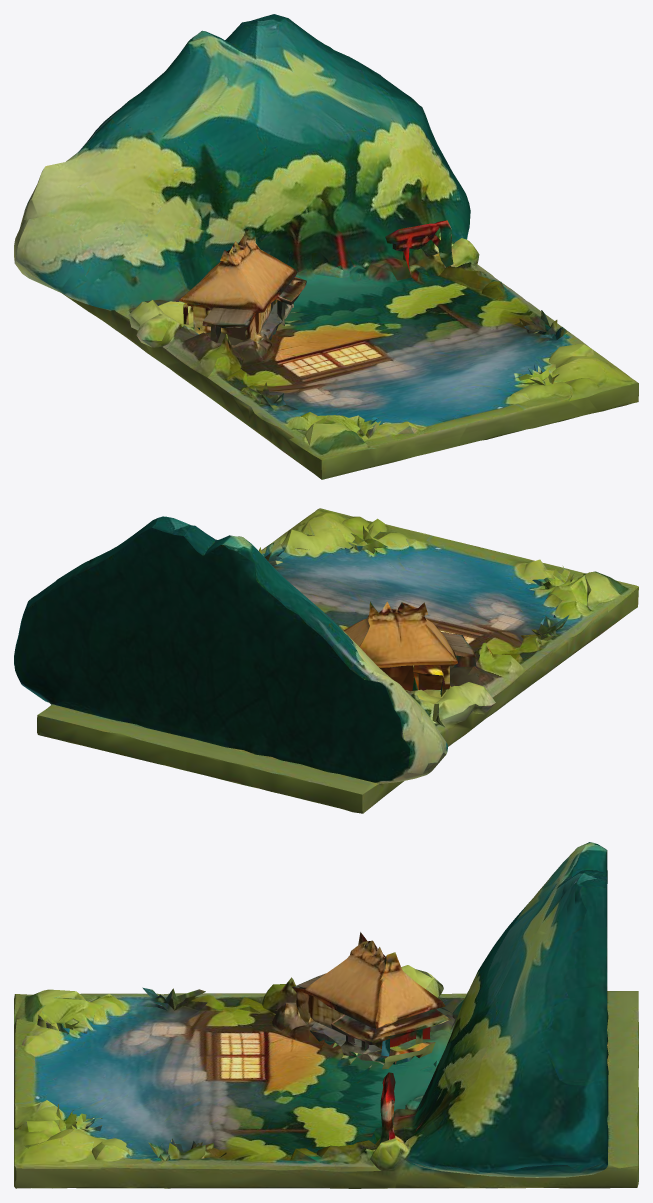
Rendered from yufuin-kinrinko.glb.
3 views of the same model, one above another, from view 1: azimuth 30°, elevation 25°; view 2: azimuth 150°, elevation 25°; view 3: azimuth 270°, elevation 25° (orthographic). The views are drawn at different scales.
Parts seen in each view (by area): view 1: logan-textured.obj; view 2: logan-textured.obj; view 3: logan-textured.obj.
Boxes of the visible parts, x1,y1,x2,y2 form: logan-textured.obj: (14, 14, 638, 479); logan-textured.obj: (14, 508, 638, 813); logan-textured.obj: (14, 842, 638, 1188).
Bounding box in the file's own units: 0.8717 × 0.4406 × 1.
Materials: 1 (1 with a texture image).
